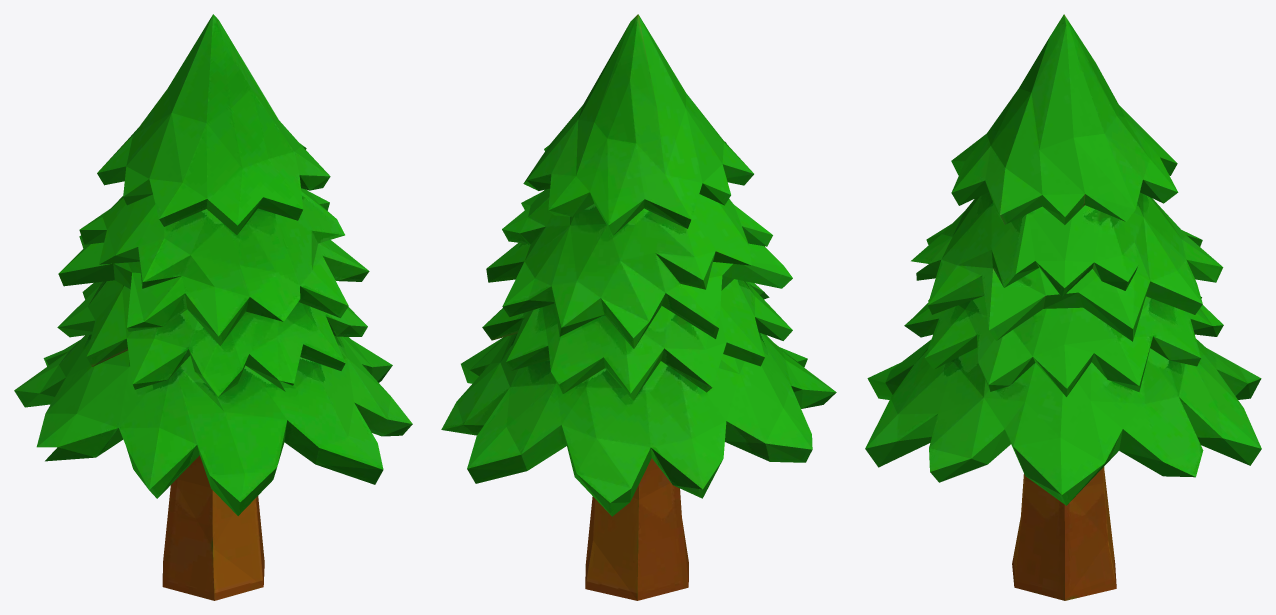
The model's file is coniferous_tree_1.glb.
3 renders of one model, left to right at view 1: azimuth 30°, elevation 25°; view 2: azimuth 150°, elevation 25°; view 3: azimuth 270°, elevation 25°, orthographic.
Size of the model in its own units: 1.3 by 1.98 by 1.27.
Materials: 1 (1 with a texture image).
